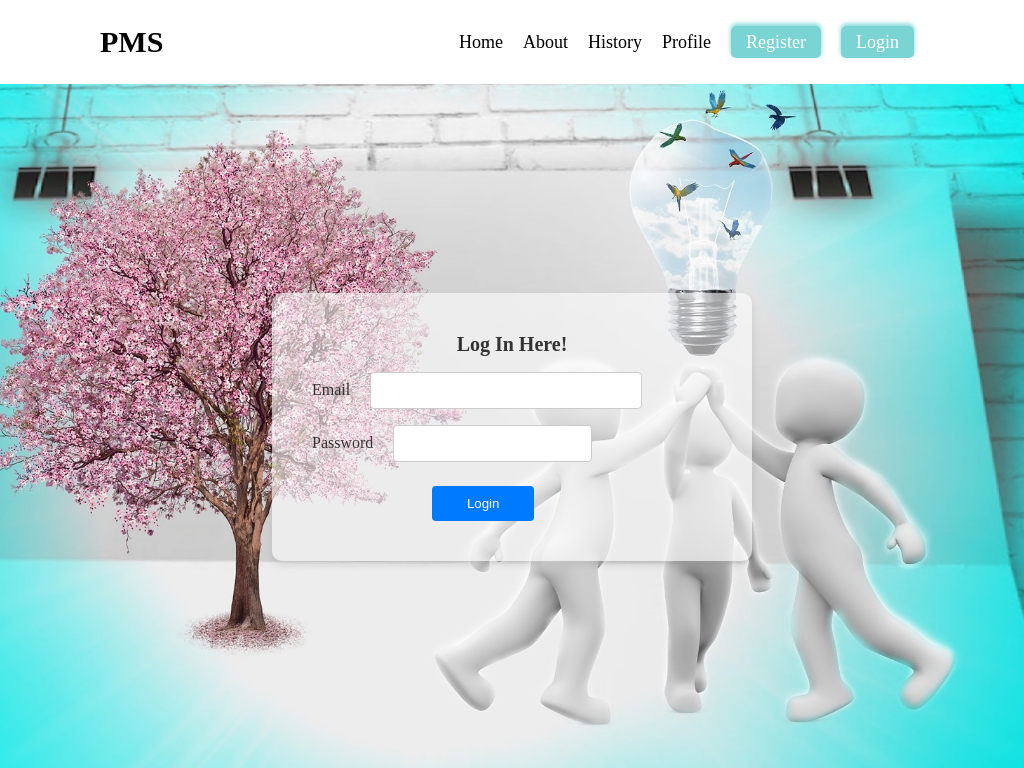
it: Working with fixtures › trying to log in with wrong credentials
In the field with class "email": (506, 391) [370,372,642,409], type "favourgaitano1@gmail.com"
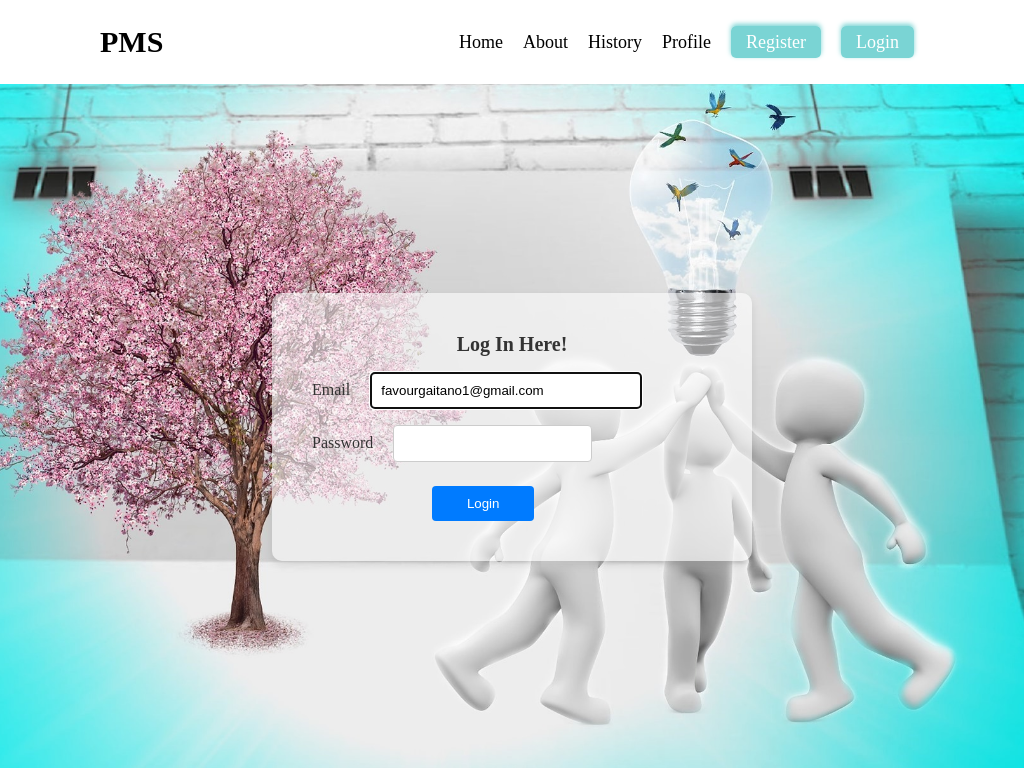
In the password field: (493, 444) [393,425,592,462], type "123456"
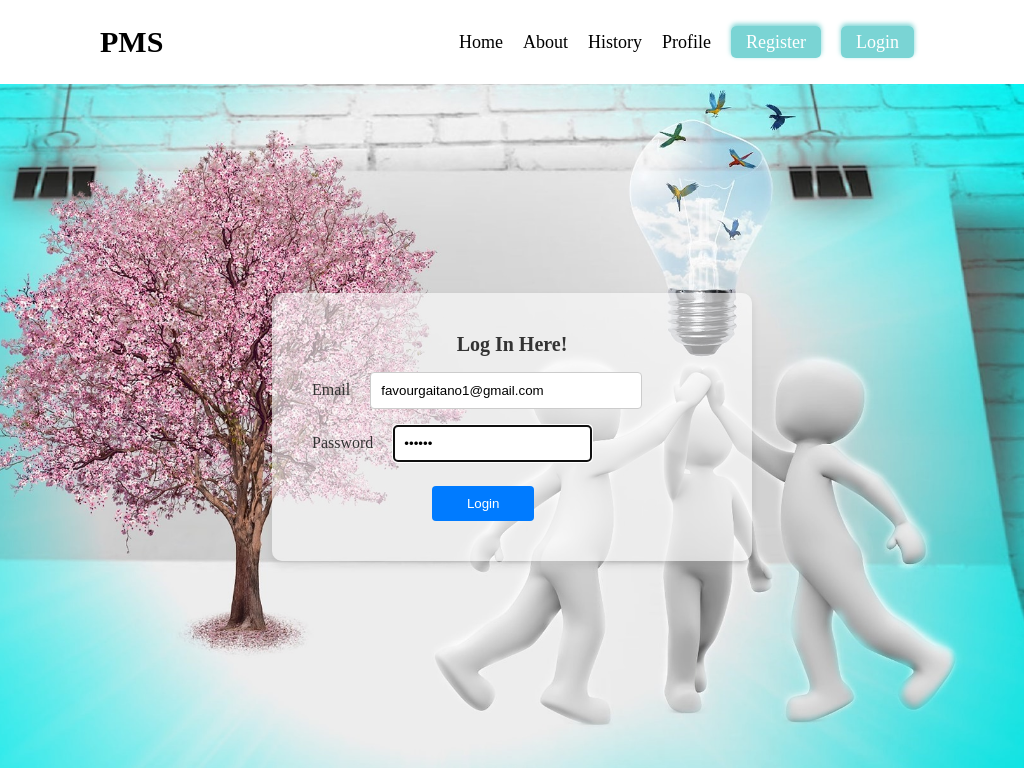
Click the button with class "loginbtn": (483, 504) [432,486,534,521]
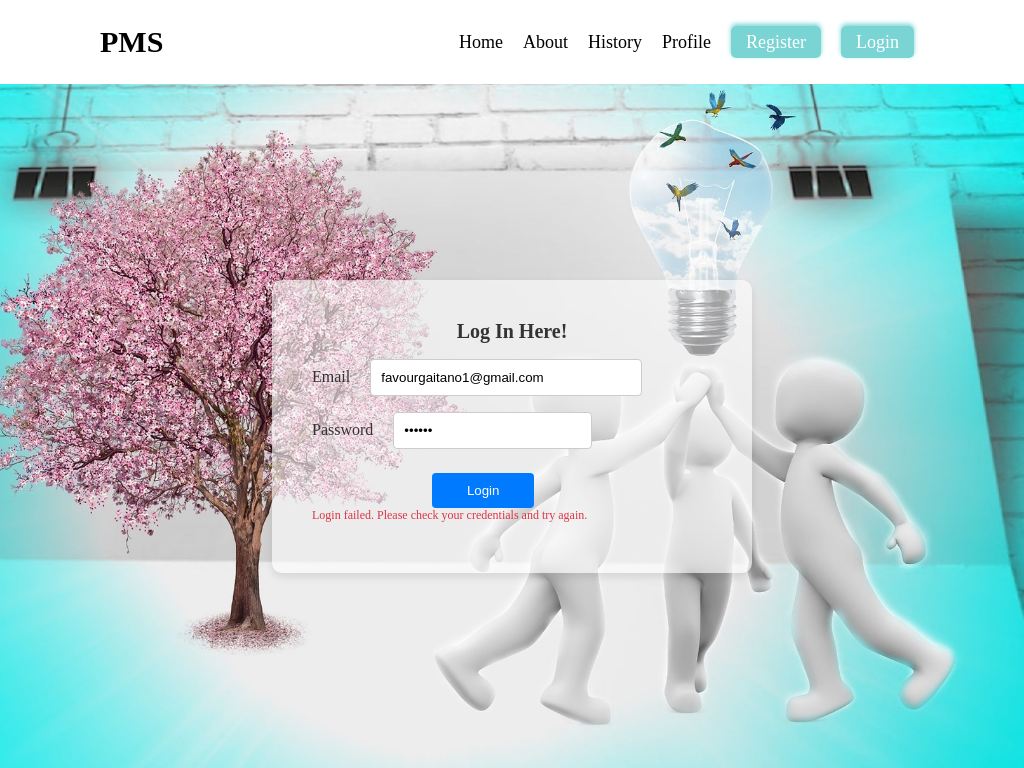
expect the text "Login failed. Please check your credentials and try again" is shown: met, box [312,508,587,522]
